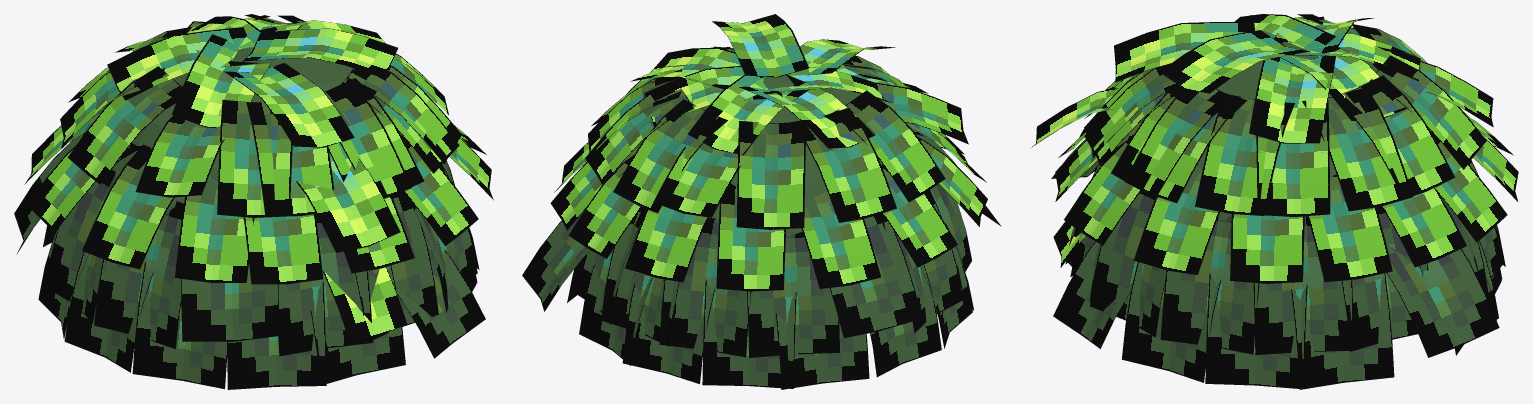
The model's file is Bush.glb.
3 views of the same model, side by side, from view 1: azimuth 30°, elevation 25°; view 2: azimuth 150°, elevation 25°; view 3: azimuth 270°, elevation 25° (orthographic). The views are drawn at different scales.
Parts seen in each view (by area): view 1: Bush; view 2: Bush; view 3: Bush.
Boxes of the visible parts, x1,y1,x2,y2 form: Bush: [14, 14, 493, 389]; Bush: [522, 14, 1001, 389]; Bush: [1031, 14, 1518, 389].
Size of the model in its own units: 1.54 by 0.9667 by 1.6.
2 materials, 1 textured.
